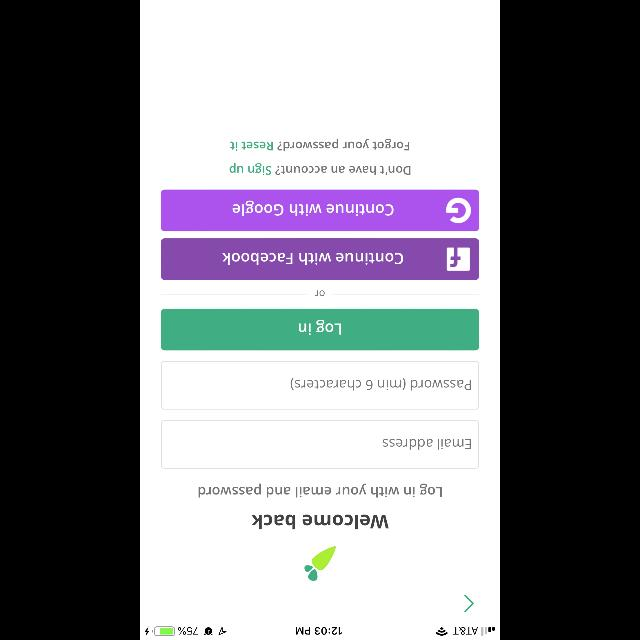icon: (464, 594, 474, 612)
image: (304, 546, 336, 580)
input: (161, 420, 479, 468), (161, 361, 479, 409)
text: (198, 483, 442, 497), (252, 514, 388, 530), (290, 378, 470, 390), (230, 163, 410, 175), (230, 139, 410, 151), (383, 438, 471, 449), (315, 290, 325, 296)
textbutton: (161, 308, 479, 350), (161, 238, 479, 280), (161, 189, 479, 231)
uppertaskbar: (140, 626, 500, 640)
